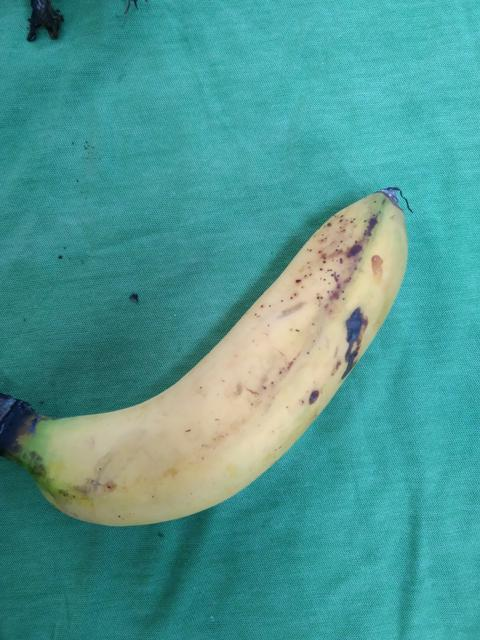ripe: (31, 179, 419, 536)
